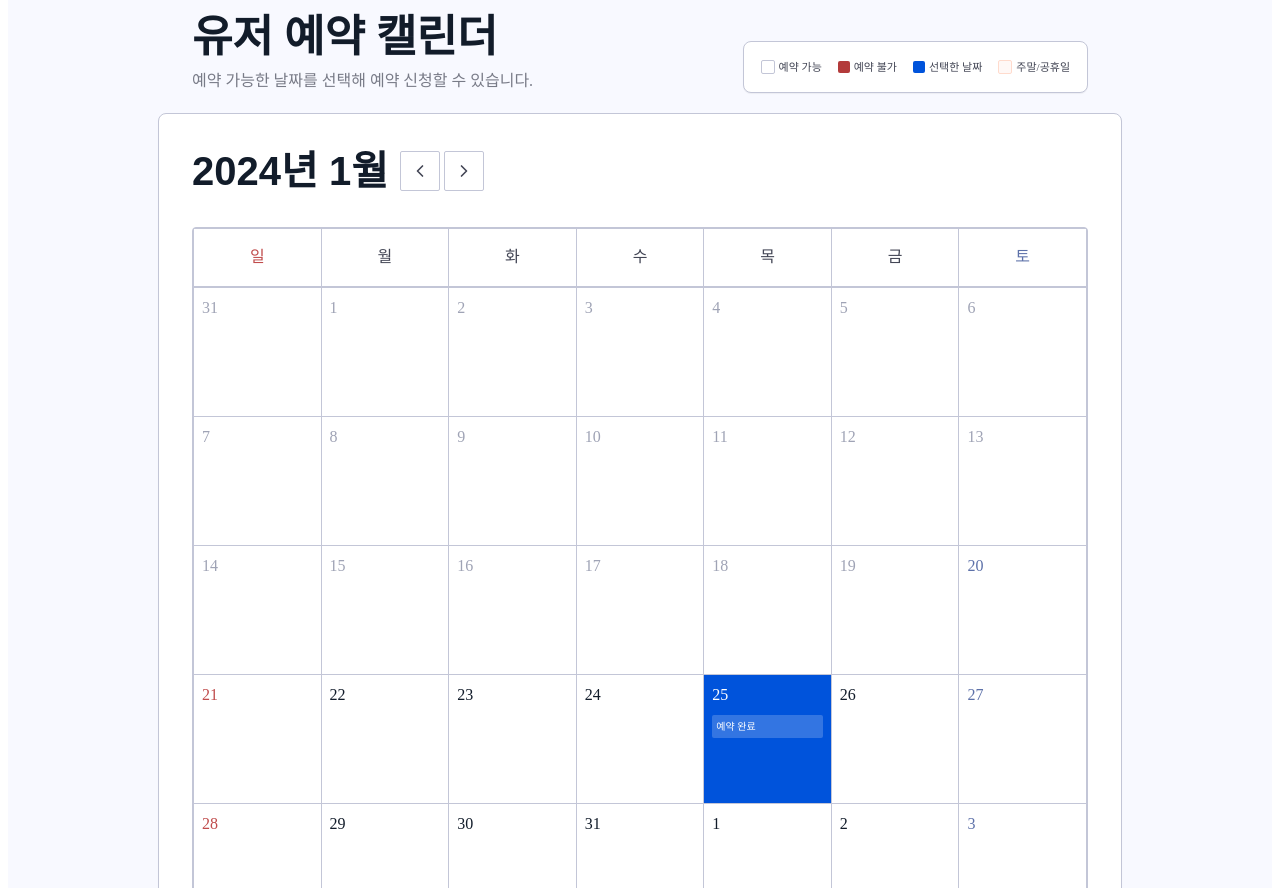
CalendarUser › Reservation Cancel › 예약된 날짜를 선택하면 예약 취소하기 버튼이 활성화되고 확인 시 취소된다
The image size is (1280, 888).
What coordinates should you click on to do the following:
click the text "25"
I would click on:
 (768, 739)
Its box is [704,675,831,803].
(page scrolled)
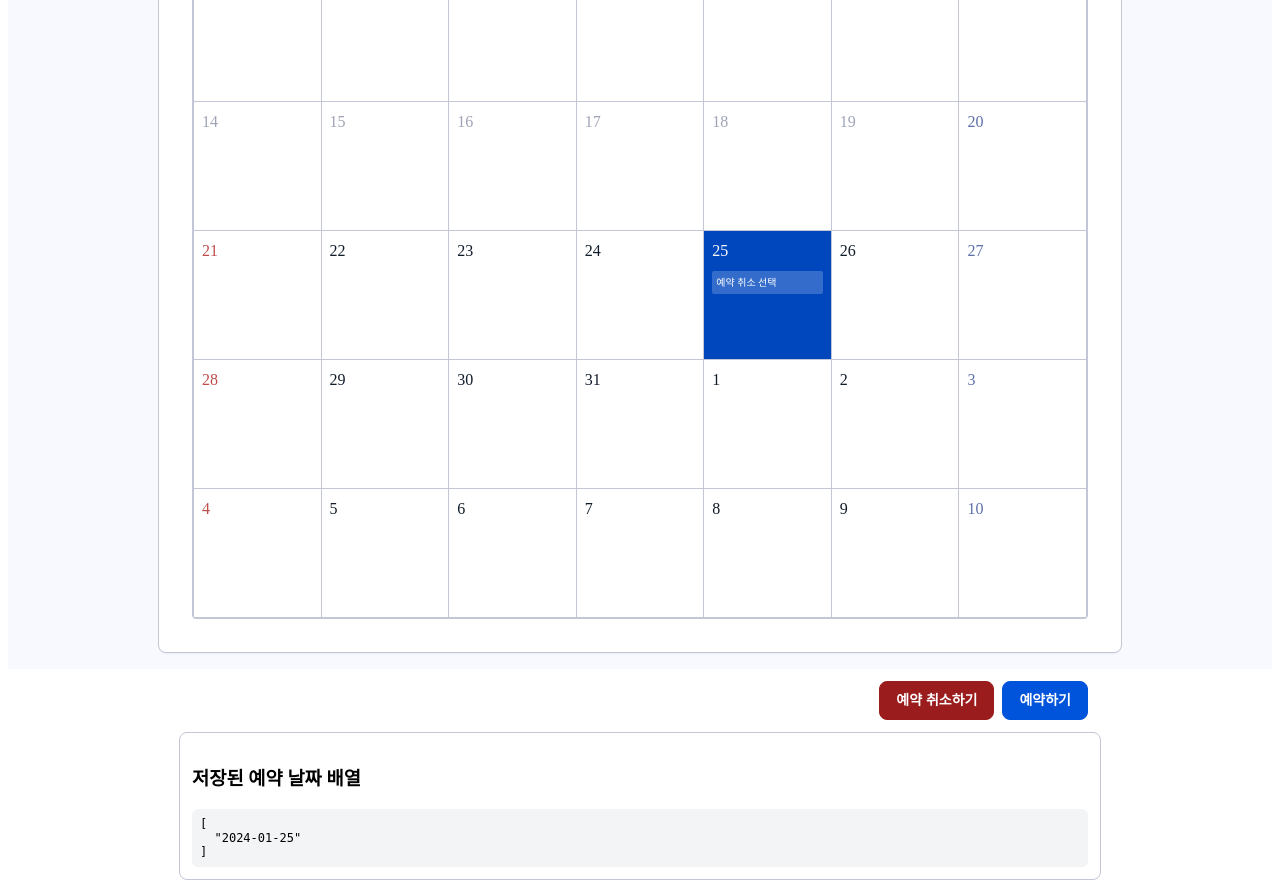
Now the button "예약 취소하기" is enabled
What coordinates should you click on to do the following:
click the button "예약 취소하기"
I would click on:
 (937, 700)
Its box is [879,681,994,720].
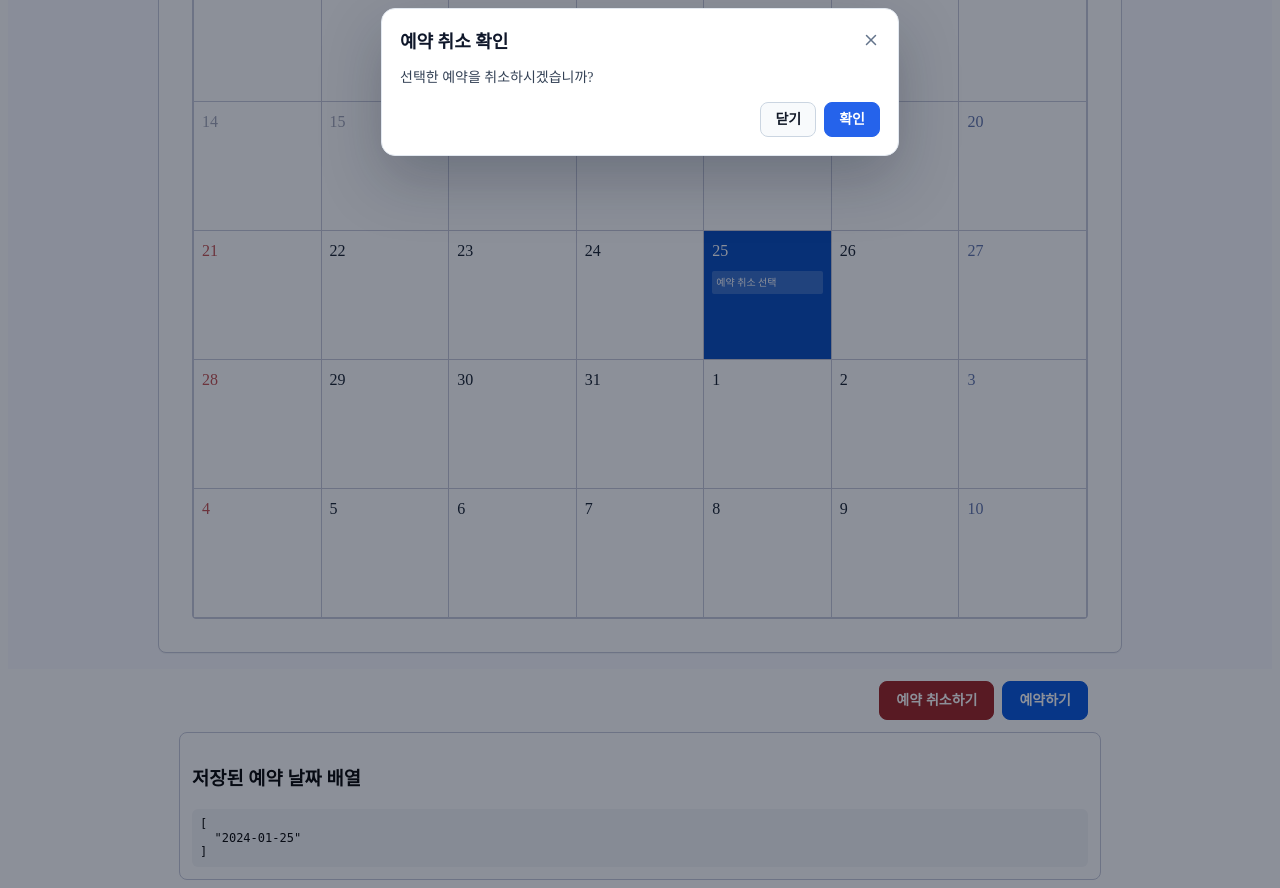
Now the dialog is shown, box [381,8,899,156]
What coordinates should you click on to do the following:
click the button "확인"
I would click on:
 (852, 119)
Its box is [824,102,880,137].
(page scrolled)
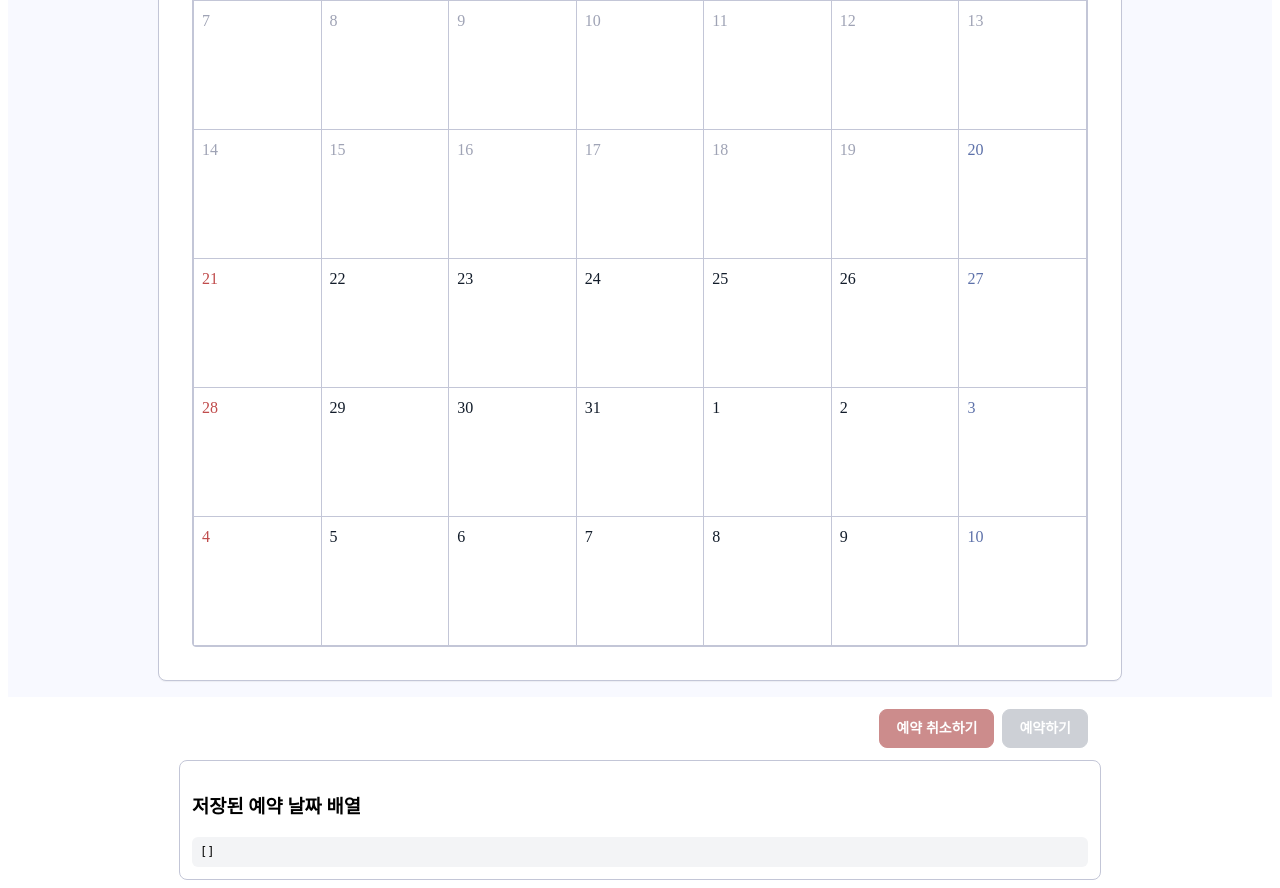
Now the button "예약 취소하기" is disabled, box [879,709,994,748]
